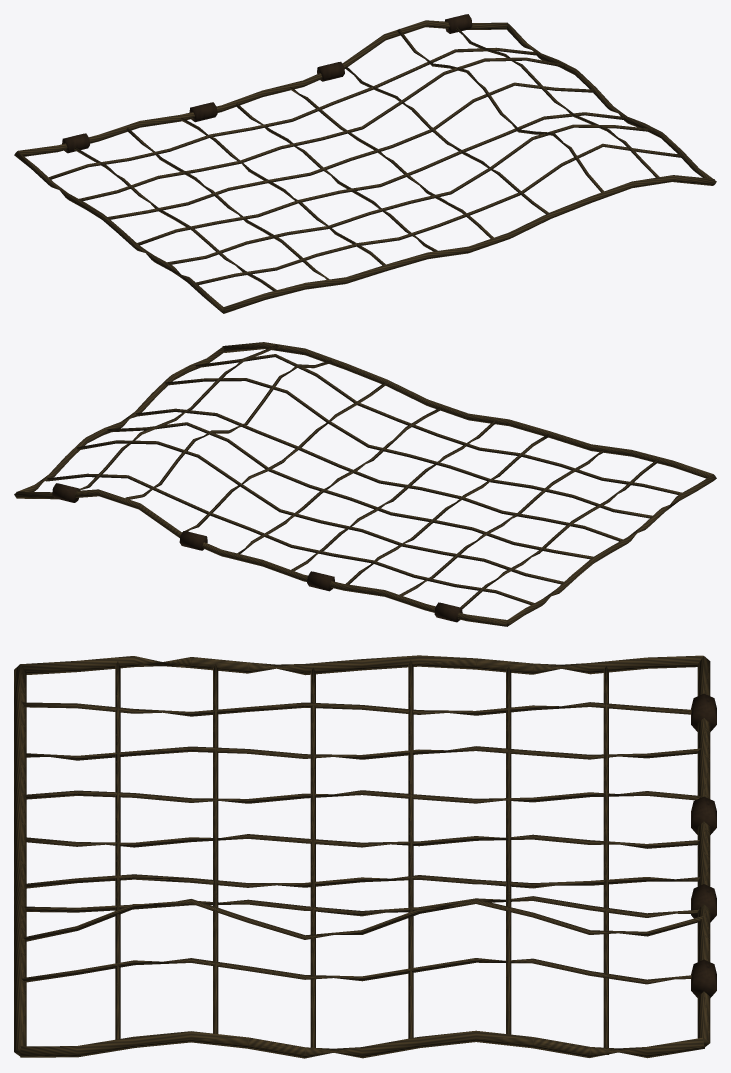
File: fallen_fishing_net.glb
3 renders of one model, top to bottom at view 1: azimuth 30°, elevation 25°; view 2: azimuth 150°, elevation 25°; view 3: azimuth 270°, elevation 25°, orthographic. The views are drawn at different scales.
Visible parts, largest first — view 1: fallen_fishing_net; view 2: fallen_fishing_net; view 3: fallen_fishing_net.
Part boxes in pixels (<box>): fallen_fishing_net: <box>14,14,716,313</box>; fallen_fishing_net: <box>14,342,716,626</box>; fallen_fishing_net: <box>14,655,716,1058</box>.
Bounding box in the file's own units: 2.43 × 0.2428 × 1.8.
1 material, 1 textured.
